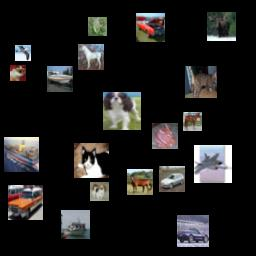airplane: (194, 145, 232, 183)
automobile: (8, 185, 43, 220), (177, 215, 209, 247), (136, 13, 165, 42), (159, 166, 185, 192)
bird: (15, 45, 31, 61)
cat: (74, 143, 109, 178), (185, 66, 217, 98), (10, 65, 26, 81)
deer: (207, 12, 236, 41), (152, 123, 178, 149)
dog: (103, 92, 141, 130), (90, 182, 109, 201)
frog: (88, 17, 107, 36)
ship: (4, 137, 39, 172), (61, 210, 90, 239), (47, 66, 73, 92)
